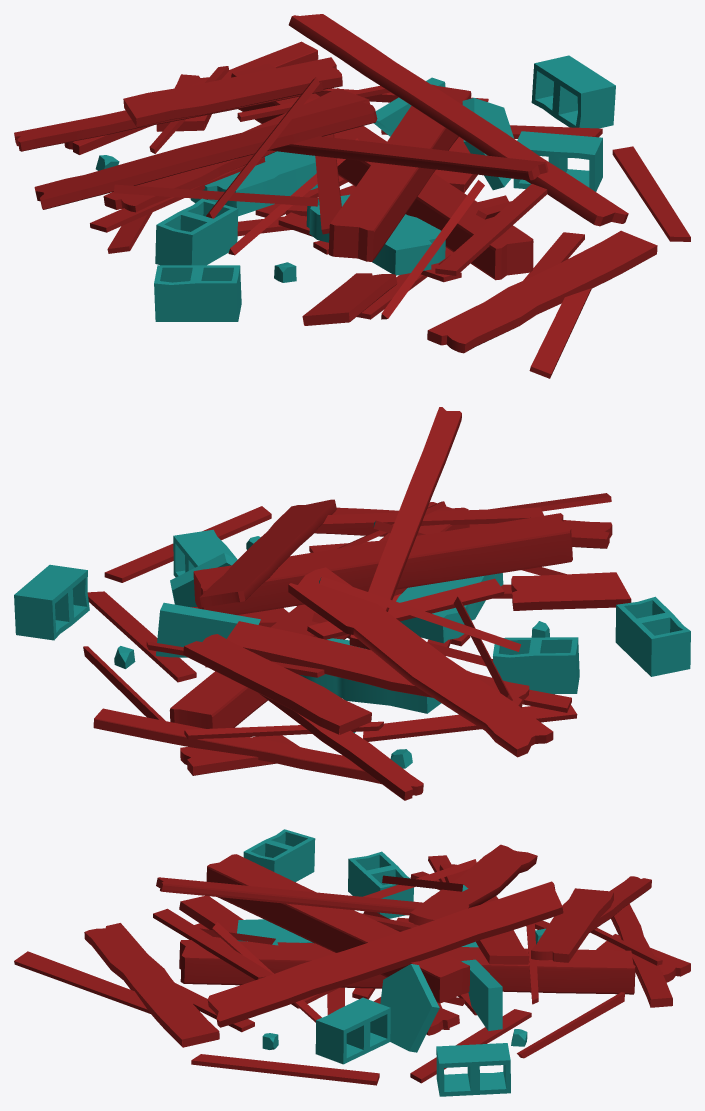
The model's file is Debris_StoneWood_02.FBX.
3 renders of one model, top to bottom at view 1: azimuth 30°, elevation 25°; view 2: azimuth 150°, elevation 25°; view 3: azimuth 270°, elevation 25°, orthographic. The views are drawn at different scales.
Visible parts, largest first — view 1: Debris_StoneWood_02_LOD0; view 2: Debris_StoneWood_02_LOD0; view 3: Debris_StoneWood_02_LOD0.
Part boxes in pixels (box(x1,y1,x2,y2)): Debris_StoneWood_02_LOD0: box(14, 14, 690, 378); Debris_StoneWood_02_LOD0: box(14, 407, 690, 800); Debris_StoneWood_02_LOD0: box(14, 829, 690, 1096).
Size of the model in its own units: 300 by 73.32 by 369.
